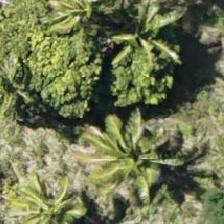coconut_tree: (82, 110, 172, 200), (114, 0, 204, 88), (0, 155, 81, 223), (23, 0, 113, 49)
